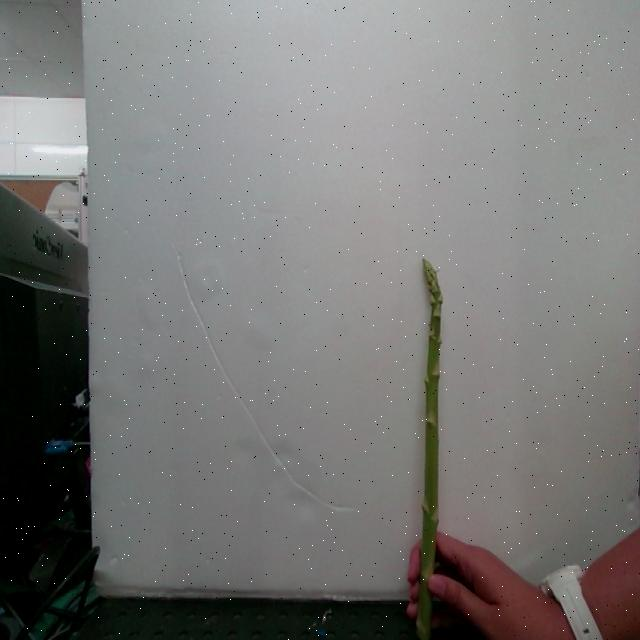aspargus: (415, 263, 444, 640)
